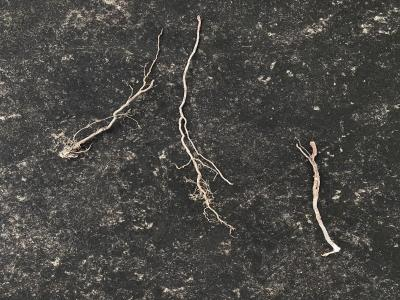Root: (61, 29, 163, 158), (179, 16, 233, 228), (296, 139, 340, 256)
